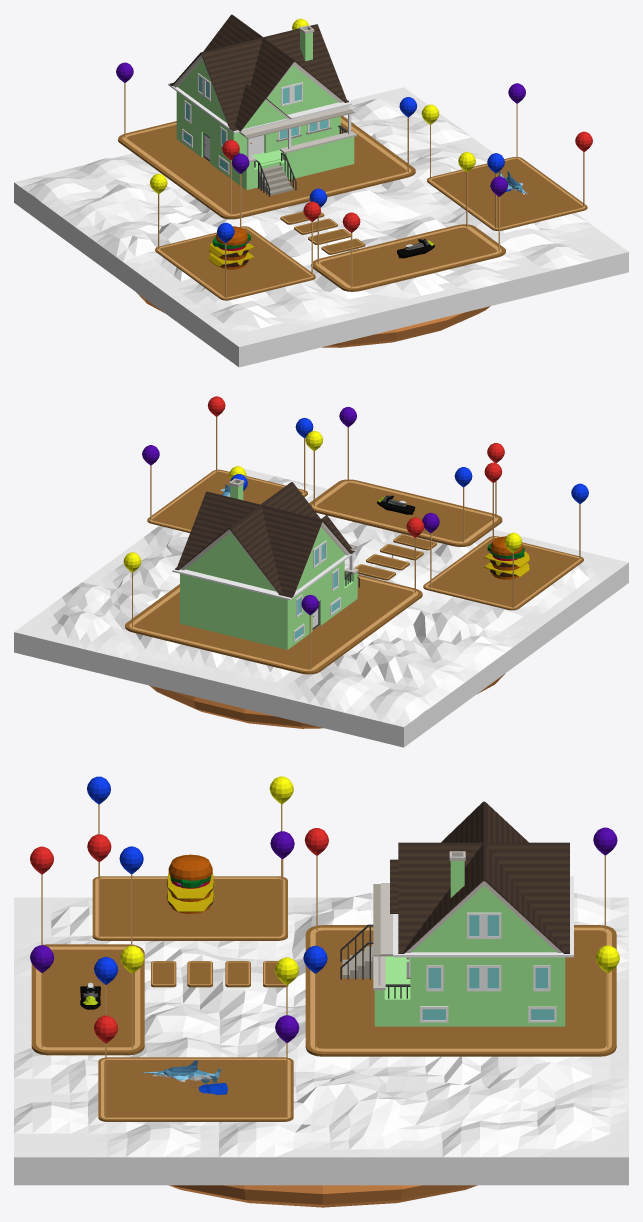
The picture shows the model from 3 angles, top to bottom: view 1: azimuth 30°, elevation 25°; view 2: azimuth 150°, elevation 25°; view 3: azimuth 270°, elevation 25°; orthographic projection. The views are drawn at different scales.
Parts seen in each view (by area): view 1: Cube.013, Cube.274, UNDERGROUND_PIZZA, OBJRANDOM_HAMBURGER; view 2: Cube.013, Cube.274, UNDERGROUND_PIZZA, OBJRANDOM_HAMBURGER; view 3: Cube.013, Cube.274, UNDERGROUND_PIZZA, OBJRANDOM_HAMBURGER, ANIMAL_PEZ_ESPADA.
Boxes of the visible parts, x1,y1,x2,y2 form: Cube.013: (14, 18, 628, 367); Cube.274: (168, 14, 356, 196); UNDERGROUND_PIZZA: (136, 292, 490, 347); OBJRANDOM_HAMBURGER: (209, 226, 254, 269); Cube.013: (14, 396, 628, 747); Cube.274: (172, 478, 359, 649); UNDERGROUND_PIZZA: (149, 673, 505, 728); OBJRANDOM_HAMBURGER: (483, 536, 529, 579); Cube.013: (14, 776, 628, 1185); Cube.274: (340, 801, 573, 1026); UNDERGROUND_PIZZA: (169, 1185, 477, 1207); OBJRANDOM_HAMBURGER: (166, 854, 214, 913); ANIMAL_PEZ_ESPADA: (143, 1060, 227, 1094).
Bounding box in the file's own units: 4000 × 1899 × 4000.
Materials: 39 (1 with a texture image).
